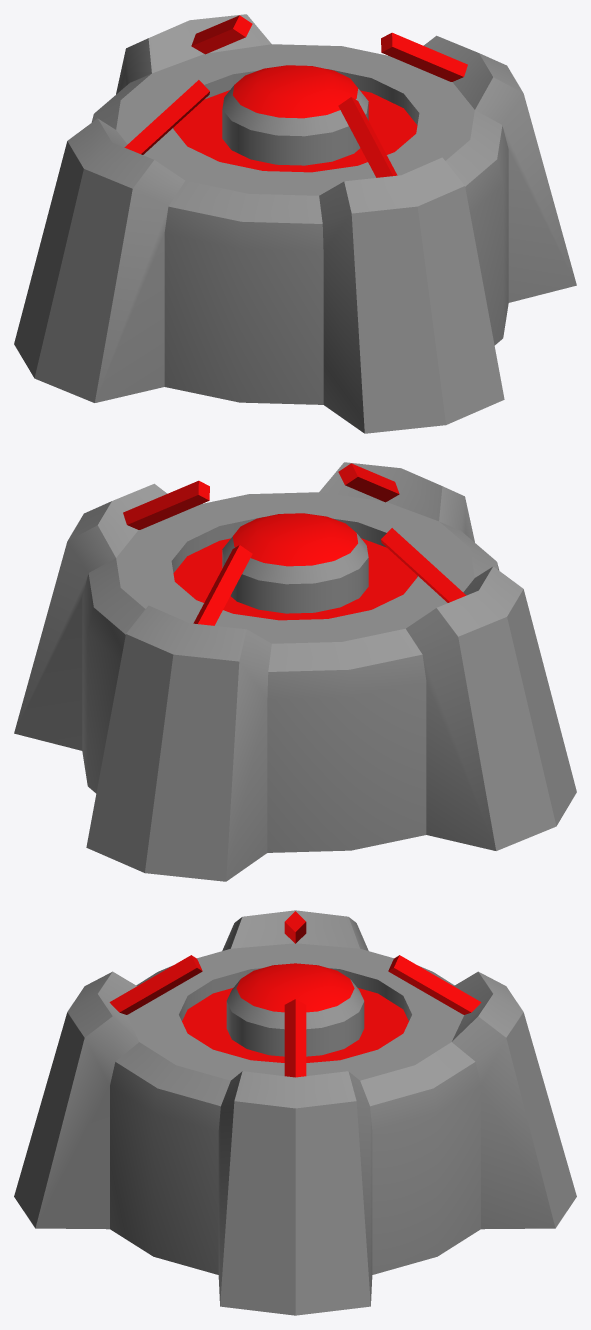
The model's file is Mine.fbx.
3 views of the same model, one above another, from view 1: azimuth 30°, elevation 25°; view 2: azimuth 150°, elevation 25°; view 3: azimuth 270°, elevation 25° (orthographic). The views are drawn at different scales.
Visible parts, largest first — view 1: Circle; view 2: Circle; view 3: Circle.
Part boxes in pixels (x1=…): Circle: x1=14, y1=14, x2=576, y2=433; Circle: x1=14, y1=462, x2=576, y2=881; Circle: x1=14, y1=910, x2=576, y2=1315.
Bounding box in the file's own units: 280 × 133 × 280.
1 material, 1 textured.
